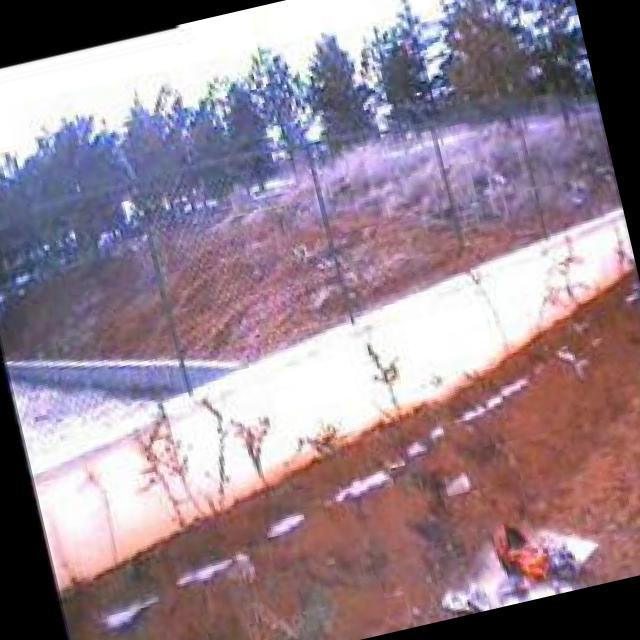Fire: (486, 507, 570, 590)
